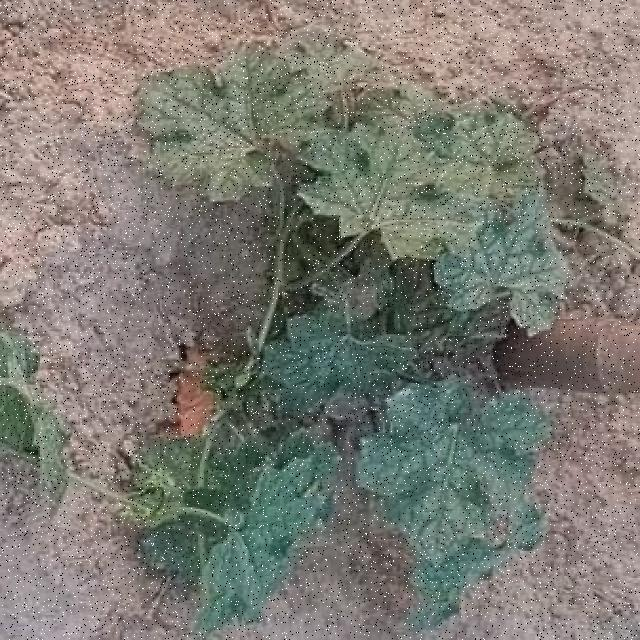plant: (131, 28, 566, 634), (1, 330, 66, 499)
